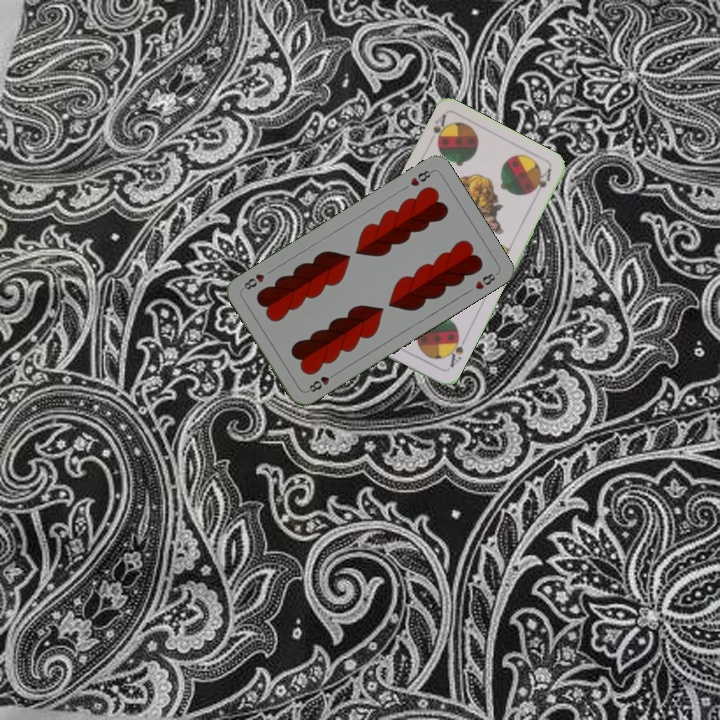H8: (303, 368, 339, 395), (406, 166, 435, 189)
SA: (443, 331, 469, 370), (429, 110, 450, 148)
